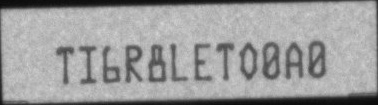0: (307, 39, 328, 79), (261, 41, 280, 81)
6: (101, 44, 121, 84)
8: (147, 42, 167, 83)
A: (283, 40, 305, 79)
E: (194, 41, 212, 82)
I: (78, 43, 97, 84)
L: (170, 41, 189, 82)
O: (239, 42, 259, 80)
R: (125, 43, 144, 83)
T: (215, 42, 234, 81), (56, 45, 74, 85)
